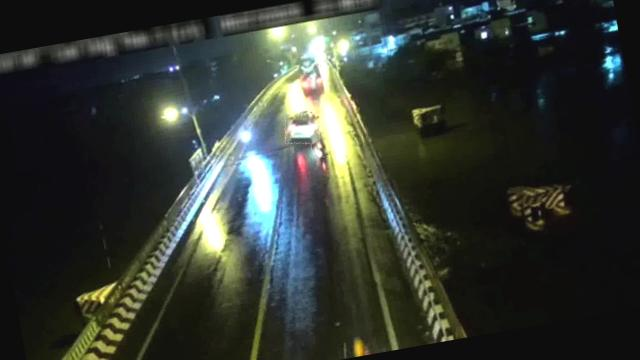Bike: (307, 126, 328, 158)
Car: (282, 109, 323, 147)
